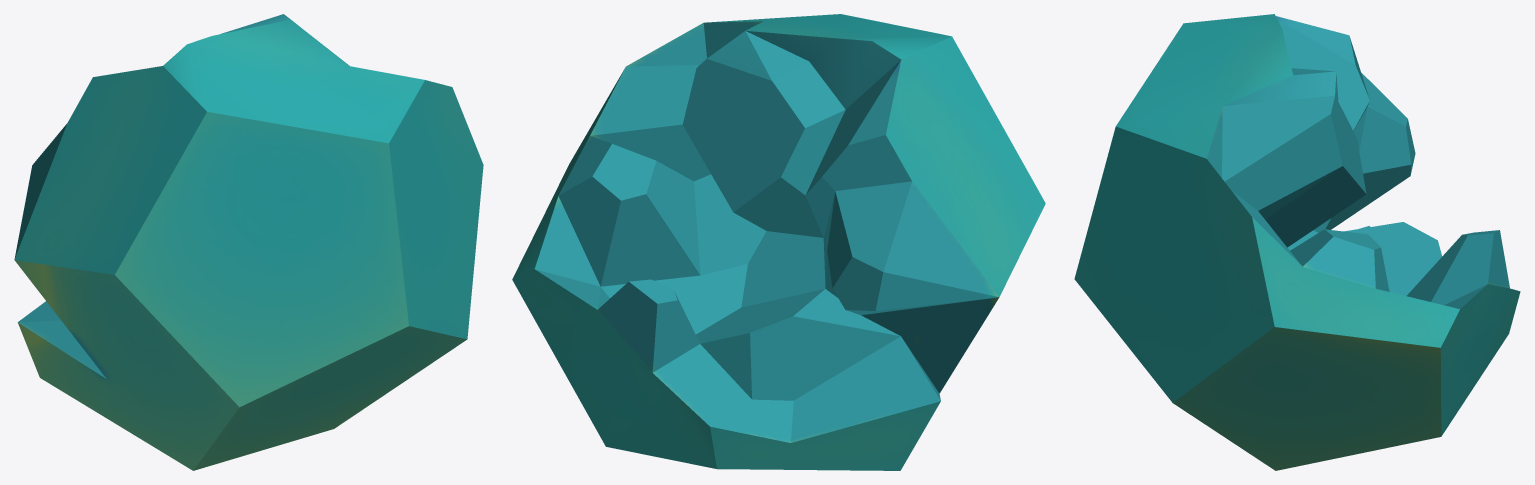
File: p_mesh_quartz_part03.fbx
3 renders of one model, left to right at view 1: azimuth 30°, elevation 25°; view 2: azimuth 150°, elevation 25°; view 3: azimuth 270°, elevation 25°, orthographic. The views are drawn at different scales.
Visible parts, largest first — view 1: p_quartz_part03_lp; view 2: p_quartz_part03_lp; view 3: p_quartz_part03_lp.
Boxes of the visible parts, x1=… form: p_quartz_part03_lp: x1=14, y1=14, x2=483, y2=470; p_quartz_part03_lp: x1=512, y1=14, x2=1045, y2=470; p_quartz_part03_lp: x1=1074, y1=14, x2=1520, y2=470.
Bounding box in the file's own units: 3.6 × 3.25 × 3.37.
